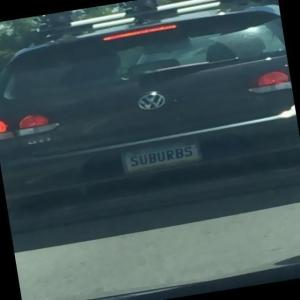Plate: (119, 138, 203, 176)
